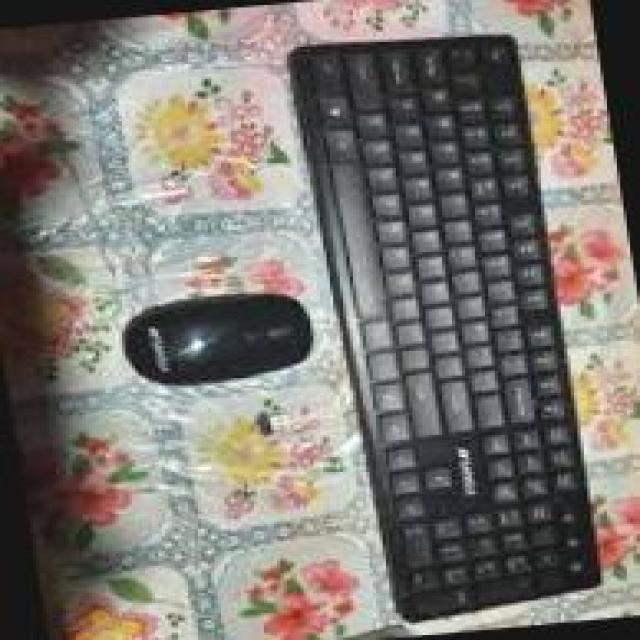keyboard: (299, 25, 603, 628)
laptop: (128, 290, 312, 384)
